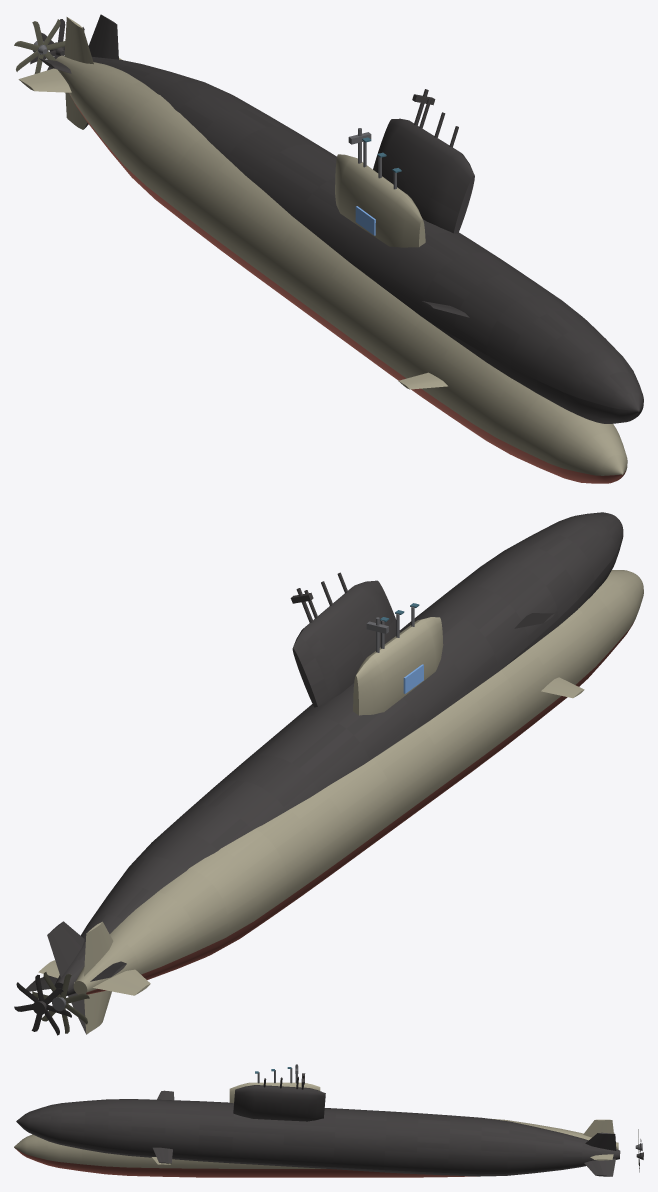
Rendered from submarine__son_won_il_class.glb.
The picture shows the model from 3 angles, top to bottom: view 1: azimuth 30°, elevation 25°; view 2: azimuth 150°, elevation 25°; view 3: azimuth 270°, elevation 25°; orthographic projection. The views are drawn at different scales.
Visible parts, largest first — view 1: Hull_Mesh, Wreck; view 2: Hull_Mesh, Wreck; view 3: Wreck, Hull_Mesh.
Boxes of the visible parts, left/top/right/bottom form: Hull_Mesh: left=14, top=17, right=627, bottom=483; Wreck: left=30, top=14, right=643, bottom=423; Hull_Mesh: left=32, top=570, right=643, bottom=1033; Wreck: left=14, top=512, right=623, bottom=1035; Wreck: left=16, top=1073, right=643, bottom=1176; Hull_Mesh: left=14, top=1067, right=642, bottom=1177.
Size of what is drawn, in the model's own units: 11.06 by 13.53 by 64.62.
